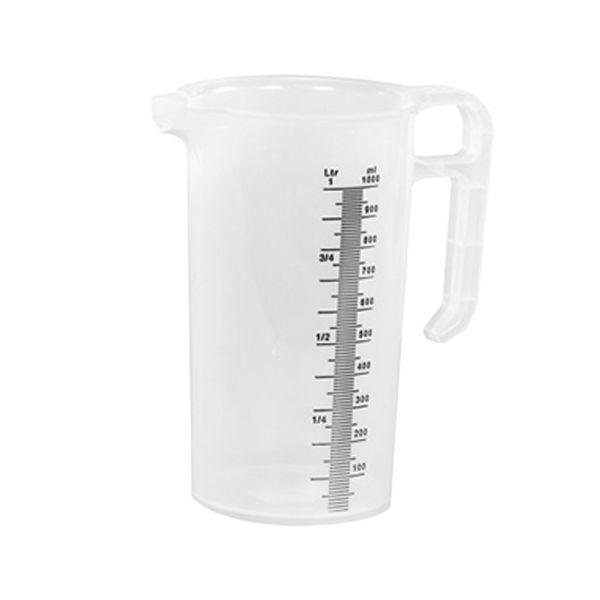PP: (154, 73, 491, 525)
